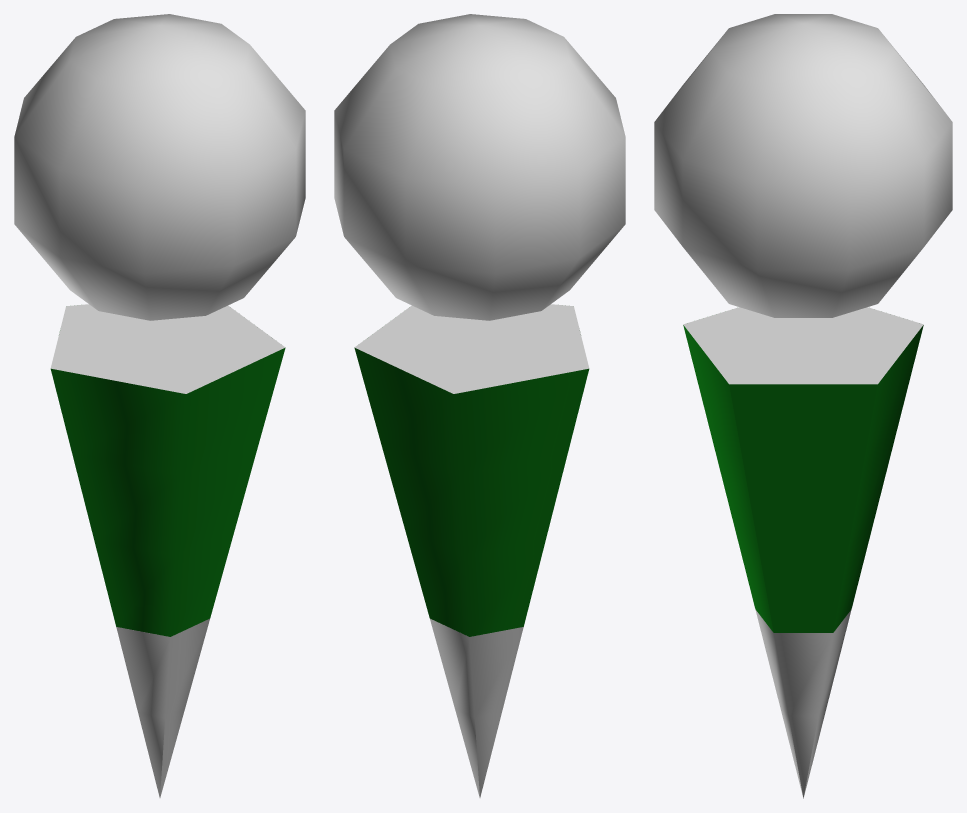
Rendered from Atlast Low Poly 1.fbx.
3 views of the same model, side by side, from view 1: azimuth 30°, elevation 25°; view 2: azimuth 150°, elevation 25°; view 3: azimuth 270°, elevation 25° (orthographic).
Parts seen in each view (by area): view 1: Coat, Hoodie; view 2: Coat, Hoodie; view 3: Coat, Hoodie.
Part boxes in pixels (x1,y1,x2,y2): Coat: [14, 14, 305, 797]; Hoodie: [50, 347, 285, 636]; Coat: [334, 14, 625, 797]; Hoodie: [354, 347, 589, 636]; Coat: [654, 14, 952, 798]; Hoodie: [683, 325, 923, 632].
Bounding box in the file's own units: 0.0556 × 0.1675 × 0.0584.
